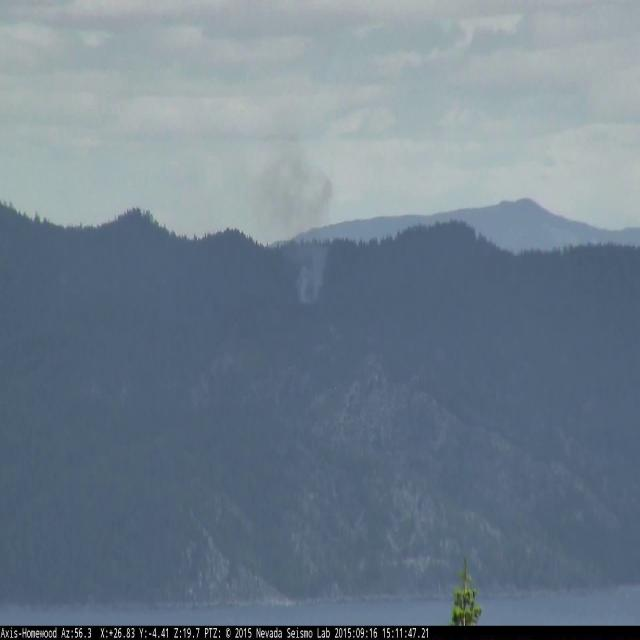smoke: (249, 125, 348, 318)
